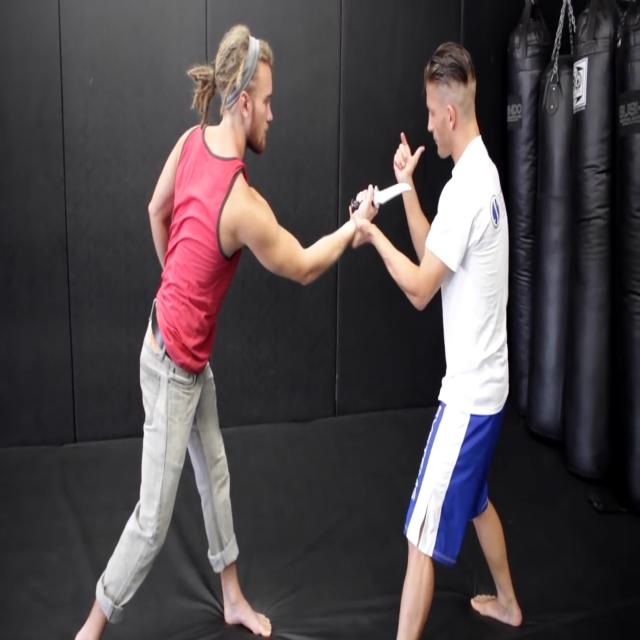knife: (352, 182, 420, 217)
